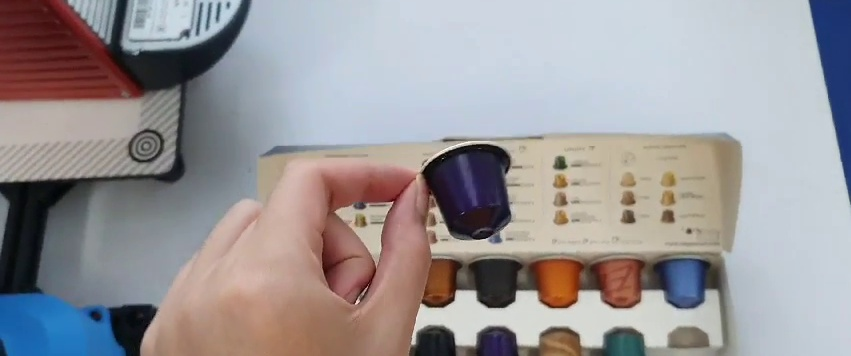capsule_2: (419, 137, 512, 244)
